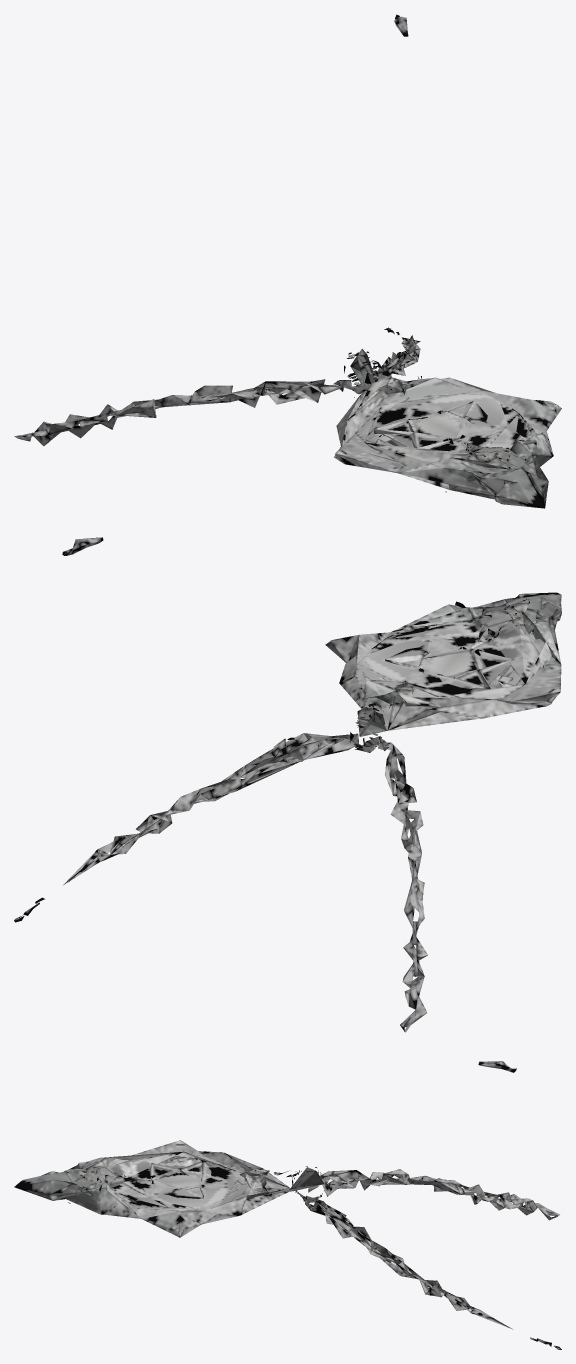
Rendered from medallion_necklace_LOD3.glb.
3 renders of one model, top to bottom at view 1: azimuth 30°, elevation 25°; view 2: azimuth 150°, elevation 25°; view 3: azimuth 270°, elevation 25°, orthographic. The views are drawn at different scales.
Parts seen in each view (by area): view 1: medallion_necklace_LOD3; view 2: medallion_necklace_LOD3; view 3: medallion_necklace_LOD3.
Boxes of the visible parts, x1,y1,x2,y2 form: medallion_necklace_LOD3: [14, 14, 561, 508]; medallion_necklace_LOD3: [14, 537, 561, 1032]; medallion_necklace_LOD3: [14, 1061, 561, 1349].
Bounding box in the file's own units: 0.5651 × 0.5117 × 0.8648.
1 material, 1 textured.
